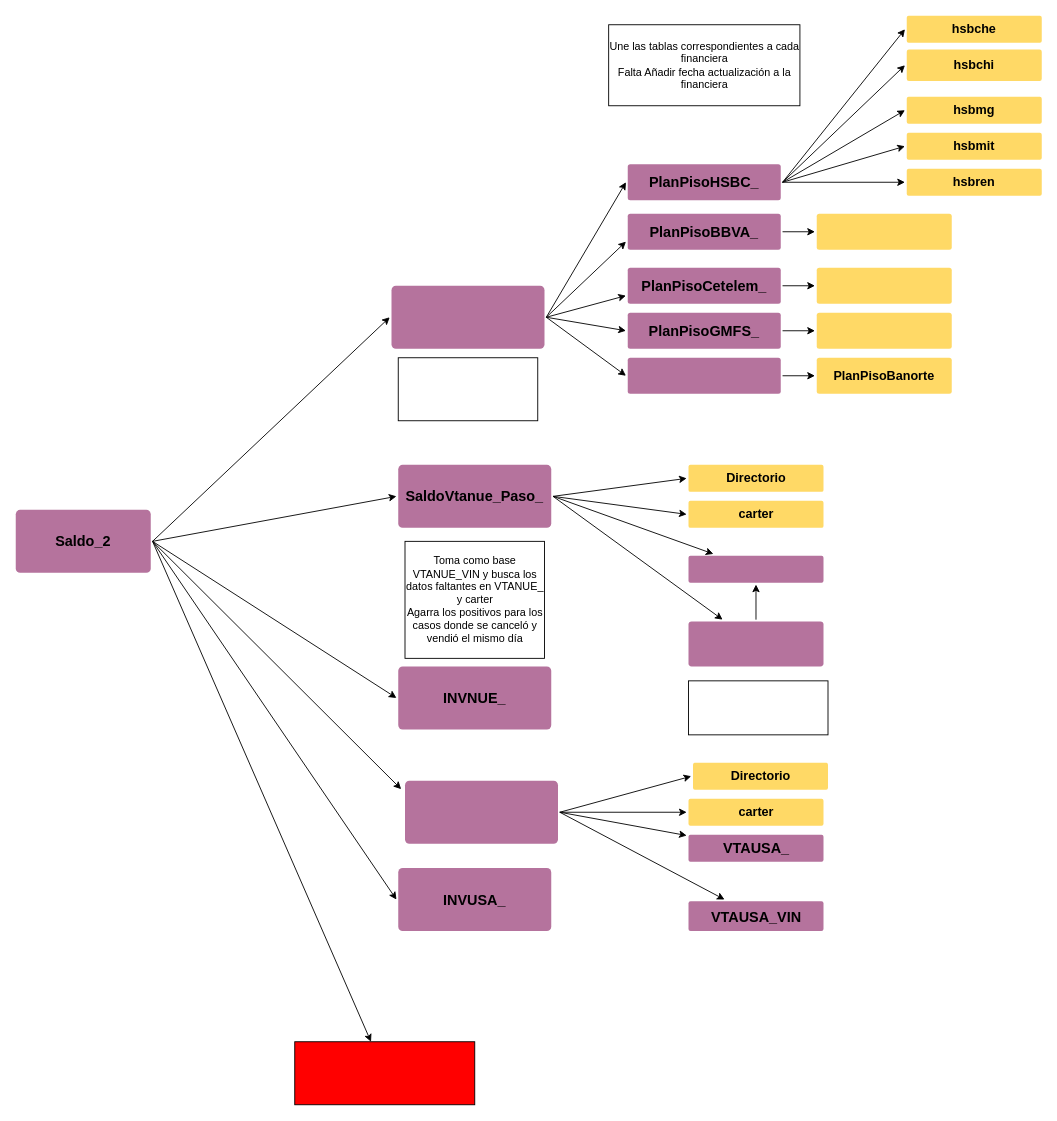
The diagram is 1057 pixels wide and 1121 high, and some of its shapes have lost their labels. The shapes that lost their labels are listed below. From the top down, each one's centre as x and y in pixels, then its label:
(x=883, y=231): PlanPisoBBVA
(x=883, y=285): PlanPisoCetelem
(x=467, y=316): PlanesPisopaso_2
(x=883, y=330): PlanPisoGMFS
(x=467, y=389): Consolida todas las financieras y selecciona las columnas de interés
(x=703, y=375): PlanPisoBanorte_
(x=755, y=568): VTANUE_
(x=755, y=643): VTANUE_VIN
(x=758, y=707): Agrupa por VIN y filtra aquellos que ventasnetas sean mayores a 0
(x=481, y=811): SaldoVtausa_Paso_
(x=384, y=1073): FALTA REFACCIONES
